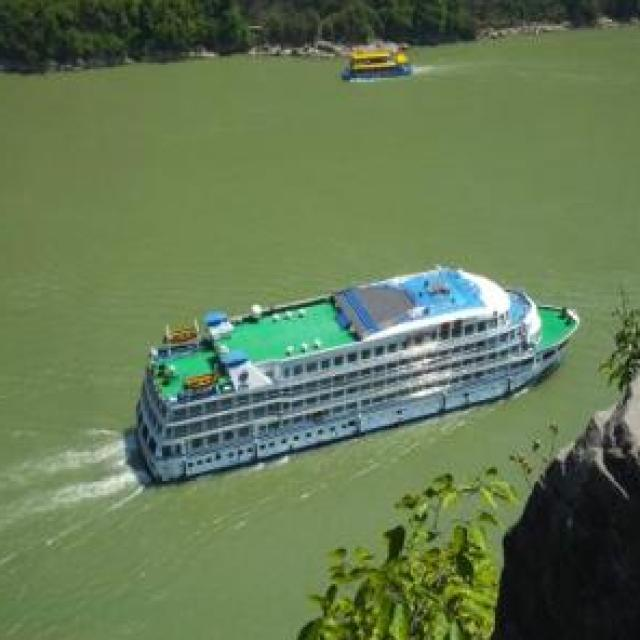houseboat: (339, 47, 416, 85)
passenger ship: (130, 264, 584, 478)
